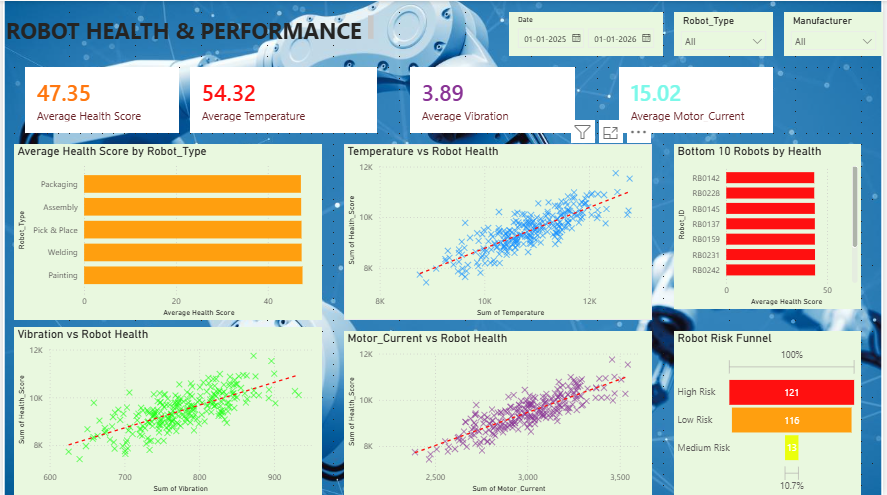

The page's visual inventory and layout, read from the dashboard file:
{"tool":"powerbi","page":{"name":"Robot Health & Performance","canvas":[1280,720],"ordinal":1},"visuals":[{"type":"textbox","box":[0,16,544,48],"z":0},{"type":"cardVisual","title":"Average Health Score","fields":{"Data":["Sensor_Data.Average Health Score"]},"box":[32,96,224,96],"z":2000},{"type":"cardVisual","title":"Average Temperature","fields":{"Data":["Avg(Sensor_Data.Temperature)"]},"box":[272,96,272,96],"z":3000},{"type":"cardVisual","title":"Average Vibration","fields":{"Data":["Avg(Sensor_Data.Vibration)"]},"box":[592,96,240,96],"z":4000},{"type":"cardVisual","title":"Average Motor Current","fields":{"Data":["Avg(Sensor_Data.Motor_Current)"]},"box":[896,96,224,96],"z":5000},{"type":"clusteredBarChart","fields":{"Category":["Robot_Master.Robot_Type"],"Y":["Sensor_Data.Average Health Score"]},"box":[16,208,448,256],"z":6000},{"type":"scatterChart","title":"Temperature vs Robot Health","fields":{"X":["Sum(Sensor_Data.Temperature)"],"Y":["Sum(Sensor_Data.Health_Score)"],"Category":["Robot_Master.Robot_ID"]},"box":[496,208,448,256],"z":7000},{"type":"scatterChart","title":"Vibration vs Robot Health","fields":{"X":["Sum(Sensor_Data.Vibration)"],"Y":["Sum(Sensor_Data.Health_Score)"],"Category":["Robot_Master.Robot_ID"]},"box":[16,474,448,246],"z":8000},{"type":"scatterChart","title":" Motor_Current vs Robot Health","fields":{"X":["Sum(Sensor_Data.Motor_Current)"],"Y":["Sum(Sensor_Data.Health_Score)"],"Category":["Robot_Master.Robot_ID"]},"box":[496,480,448,240],"z":9000},{"type":"clusteredBarChart","title":"Bottom 10 Robots by Health","fields":{"Category":["Robot_Master.Robot_ID"],"Y":["Sensor_Data.Average Health Score"]},"box":[976,208,272,240],"z":10000},{"type":"funnel","title":"Robot Risk Funnel","fields":{"Category":["Risk_Category.Risk Category"],"Y":["Robot_Master.Robots by Risk Category"]},"box":[976,480,272,240],"z":11000},{"type":"slicer","fields":{"Values":["Date_Table.Date"]},"box":[736,16,224,64],"z":11001},{"type":"slicer","fields":{"Values":["Robot_Master.Robot_Type"]},"box":[976,16,144,64],"z":11002},{"type":"slicer","fields":{"Values":["Robot_Master.Manufacturer"]},"box":[1136,16,144,64],"z":11003}]}

Visuals, with their boxes in screenshot pixels (x1, y1, x2, y2), scaled from the page's 1280x720 canvas onto the 887x495 screenshot:
textbox: detection(0, 11, 377, 44)
"Average Health Score" cardVisual: detection(22, 66, 177, 132)
"Average Temperature" cardVisual: detection(188, 66, 377, 132)
"Average Vibration" cardVisual: detection(410, 66, 577, 132)
"Average Motor Current" cardVisual: detection(621, 66, 776, 132)
clusteredBarChart - Robot_Master.Robot_Type x Sensor_Data.Average Health Score: detection(11, 143, 322, 319)
"Temperature vs Robot Health" scatterChart: detection(344, 143, 654, 319)
"Vibration vs Robot Health" scatterChart: detection(11, 326, 322, 494)
" Motor_Current vs Robot Health" scatterChart: detection(344, 330, 654, 494)
"Bottom 10 Robots by Health" clusteredBarChart: detection(676, 143, 865, 308)
"Robot Risk Funnel" funnel: detection(676, 330, 865, 494)
slicer - Date_Table.Date: detection(510, 11, 665, 55)
slicer - Robot_Master.Robot_Type: detection(676, 11, 776, 55)
slicer - Robot_Master.Manufacturer: detection(787, 11, 886, 55)
